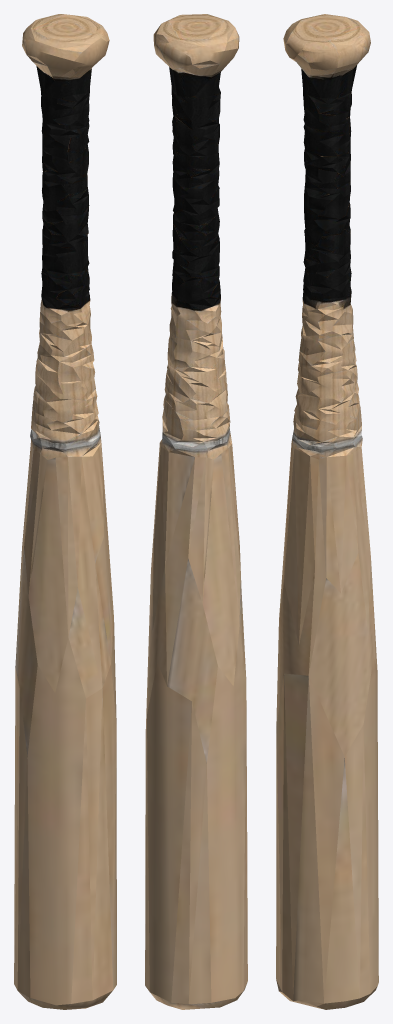
File: bat.glb
3 views of the same model, side by side, from view 1: azimuth 90°, elevation 25°; view 2: azimuth 150°, elevation 25°; view 3: azimuth 270°, elevation 25° (orthographic).
Bounding box in the file's own units: 0.1838 × 1.9 × 0.1835.
1 material, 1 textured.
